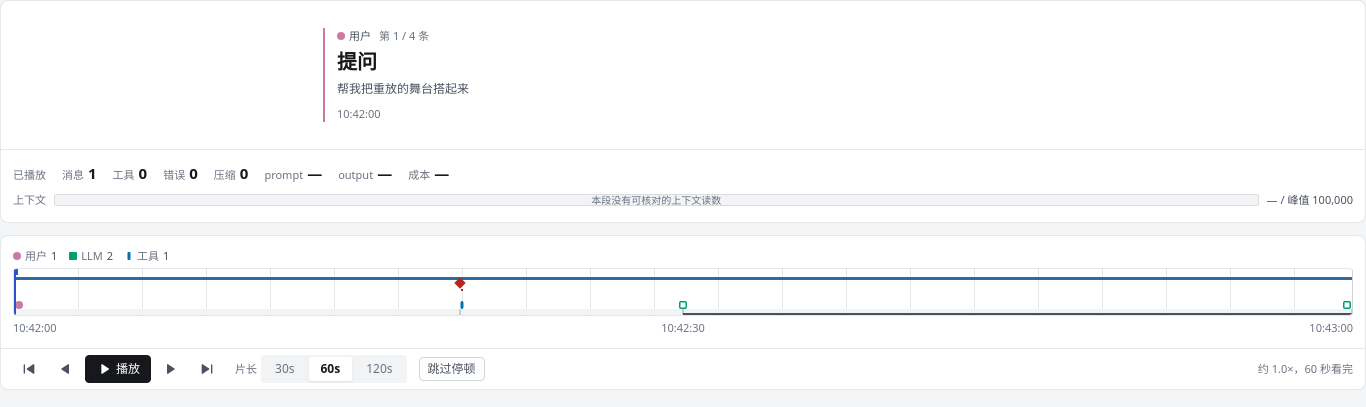
ReplayView — readings and the stage › renders a pause between two events instead of inventing one
Press the mouse on the slider named "重放进度" at (683, 292), box [13,268,1353,316]
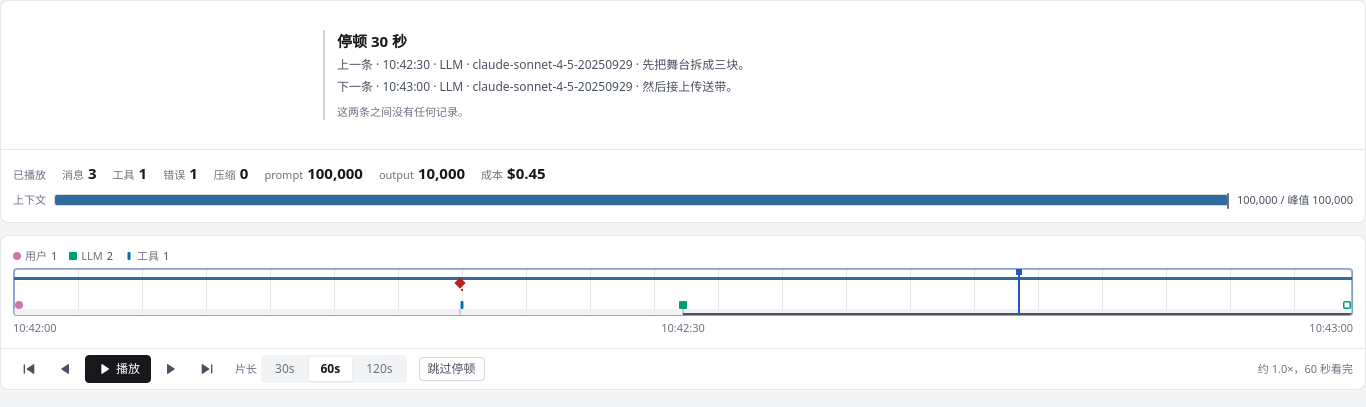
Result: the heading "停顿 30 秒" is shown at [337,31,407,51]
Result: the text "上一条 · 10:42:30 · LLM · claude-sonnet-4-5-20250929 · 先把舞台拆成三块。" is shown at [337,56,750,73]
Result: the text "下一条 · 10:43:00 · LLM · claude-sonnet-4-5-20250929 · 然后接上传送带。" is shown at [337,78,738,95]
